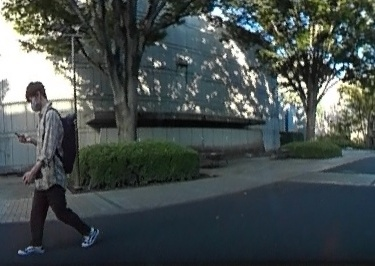person: (17, 80, 104, 252)
